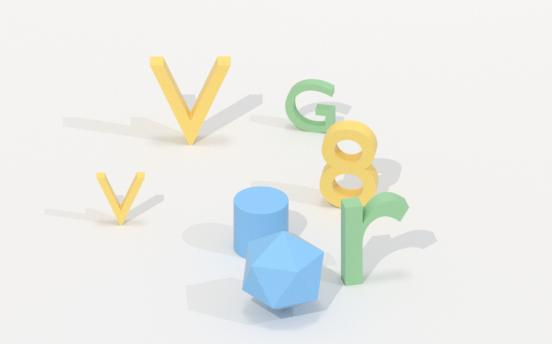8: (314, 122, 384, 212)
G-hoa: (283, 75, 339, 134)
R: (336, 193, 420, 288)
dagiac: (234, 234, 329, 311)
tru: (228, 183, 294, 258)
v: (138, 54, 239, 147), (94, 168, 151, 229)
